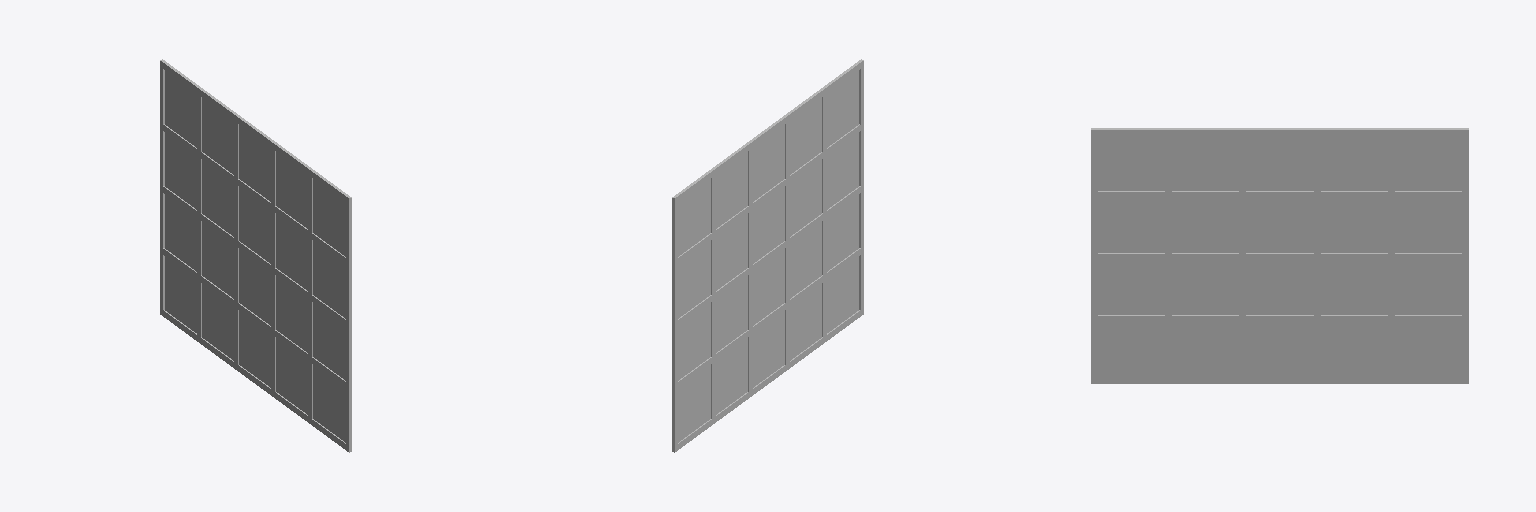
The model's file is glass.obj.
3 renders of one model, left to right at view 1: azimuth 30°, elevation 25°; view 2: azimuth 150°, elevation 25°; view 3: azimuth 270°, elevation 25°, orthographic.
Parts seen in each view (by area): view 1: Cube.009, Cube.002; view 2: Cube.009, Cube.002; view 3: Cube.009, Cube.002.
Boxes of the visible parts, <box> form: Cube.009: <box>165,71,345,442</box>; Cube.002: <box>160,59,351,452</box>; Cube.009: <box>678,71,858,442</box>; Cube.002: <box>672,59,863,452</box>; Cube.009: <box>1098,136,1461,376</box>; Cube.002: <box>1091,128,1468,383</box>.
Bounding box in the file's own units: 0.1 × 8 × 10.8.